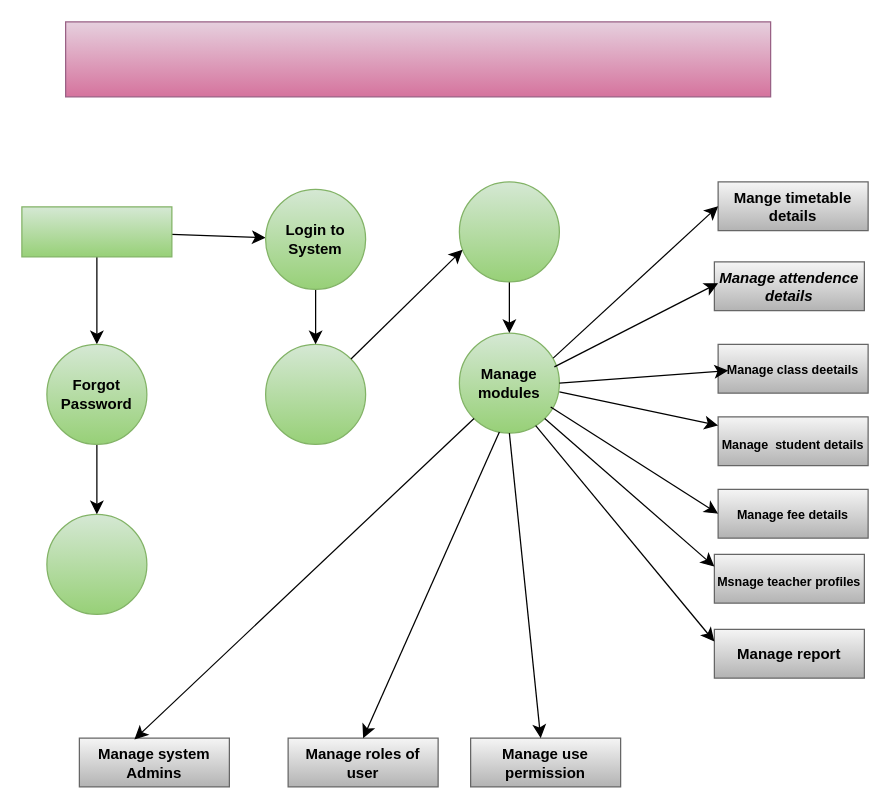
Image size: 890x809. Some labels were removed from this diagram. Each missing label, with the centre of its shape:
Admin: point (96, 231)
Check Credentials: point (315, 393)
Check roles of access: point (508, 231)
Send Email to User: point (96, 563)
STUDENT INFORMATION SYSTEM: point (417, 59)
